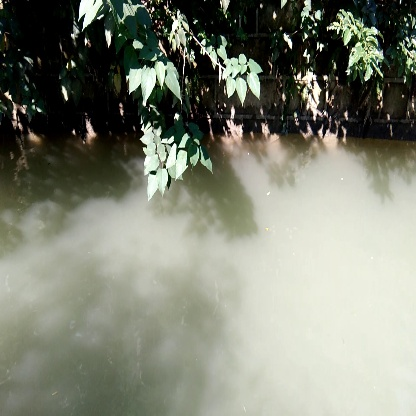grass: (135, 102, 220, 200)
